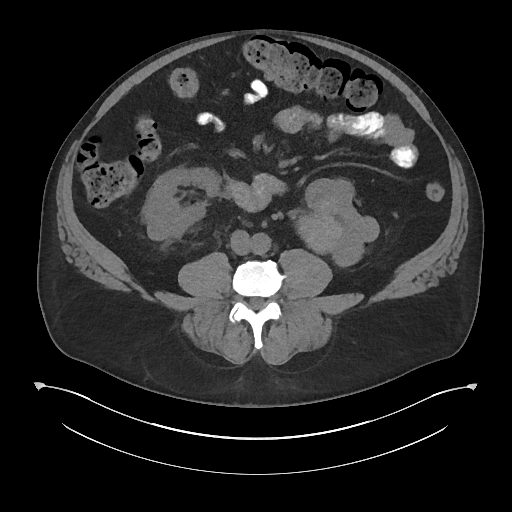Lesion: (294, 210, 344, 256)
